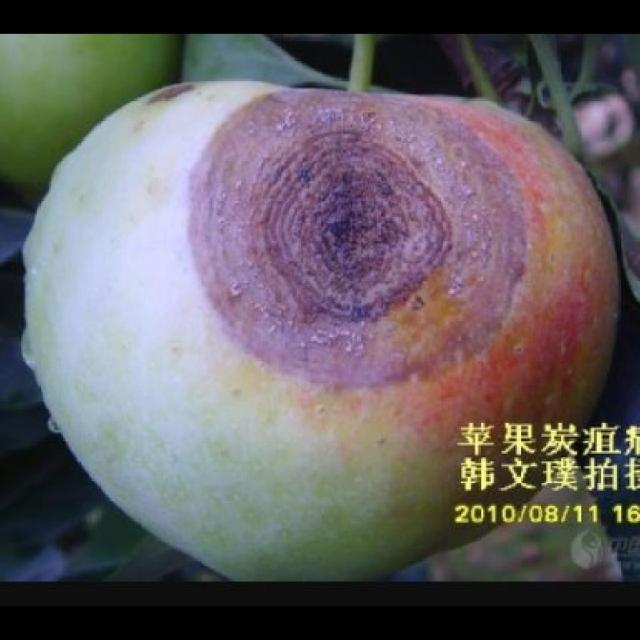Rotten Apple: (19, 77, 623, 578)
